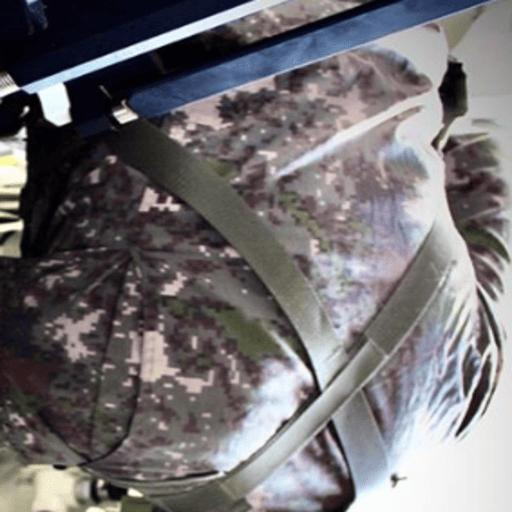korea army: (0, 24, 510, 511)
